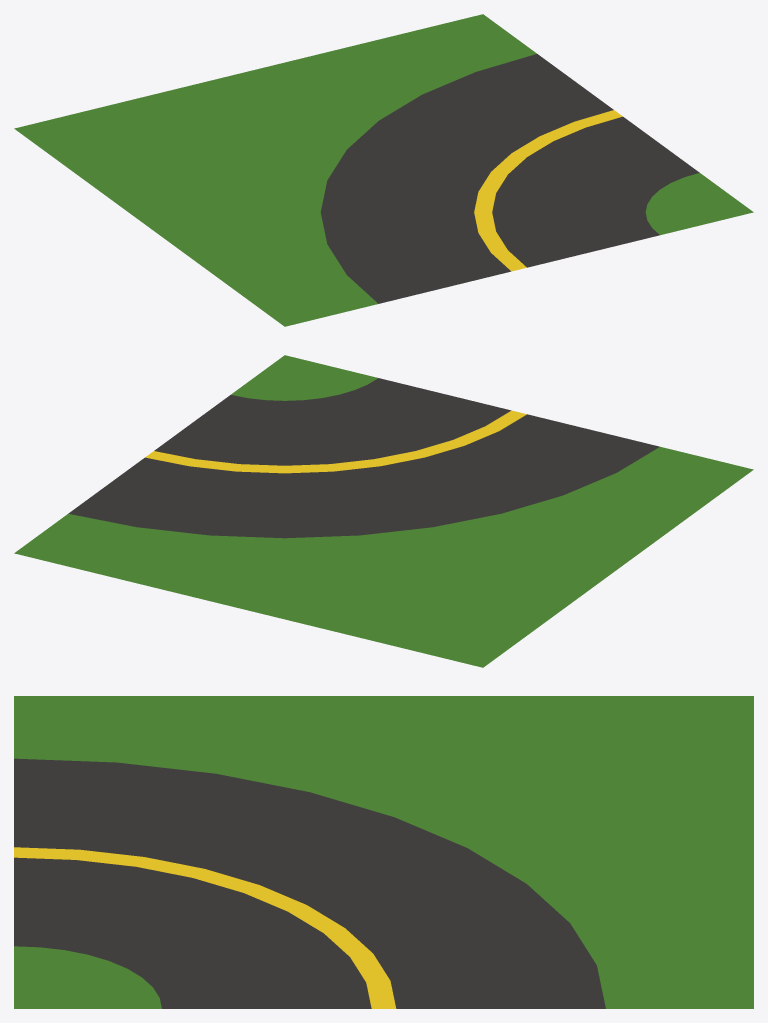
File: tiles-nb_tile-runway-turn-nb.fbx
3 renders of one model, top to bottom at view 1: azimuth 30°, elevation 25°; view 2: azimuth 150°, elevation 25°; view 3: azimuth 270°, elevation 25°, orthographic. The views are drawn at different scales.
Visible parts, largest first — view 1: tiles_nb_tile_runway_turn_nb; view 2: tiles_nb_tile_runway_turn_nb; view 3: tiles_nb_tile_runway_turn_nb.
Part boxes in pixels (<box>): tiles_nb_tile_runway_turn_nb: <box>14,14,753,326</box>; tiles_nb_tile_runway_turn_nb: <box>14,355,753,667</box>; tiles_nb_tile_runway_turn_nb: <box>14,696,753,1008</box>.
Size of the model in its own units: 200 by 1.59e-06 by 200.
